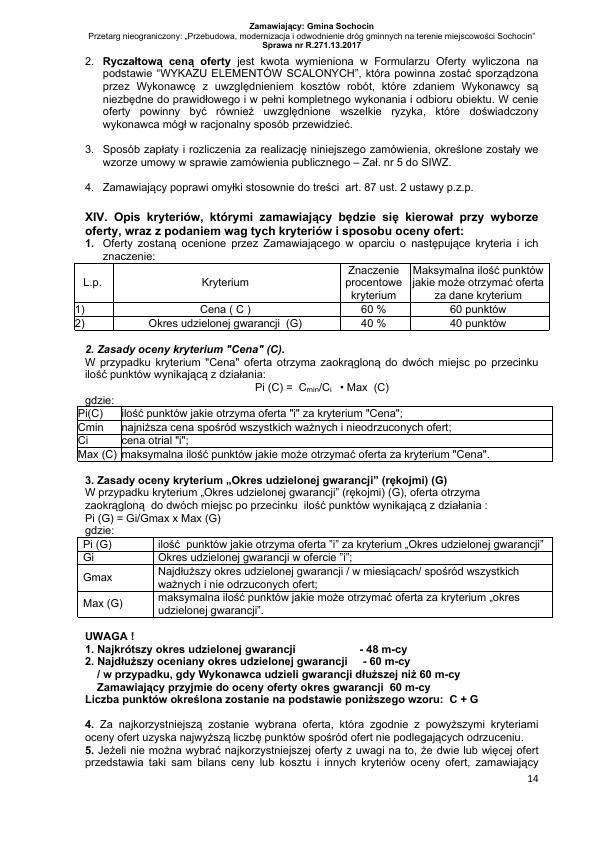table: (74, 535, 558, 623), (72, 260, 551, 335), (74, 405, 555, 467)
text: (83, 55, 544, 132), (83, 629, 487, 705), (79, 340, 542, 403), (81, 473, 491, 535), (81, 718, 544, 771), (78, 210, 551, 261), (80, 140, 543, 170), (85, 21, 539, 51), (82, 181, 477, 198)
